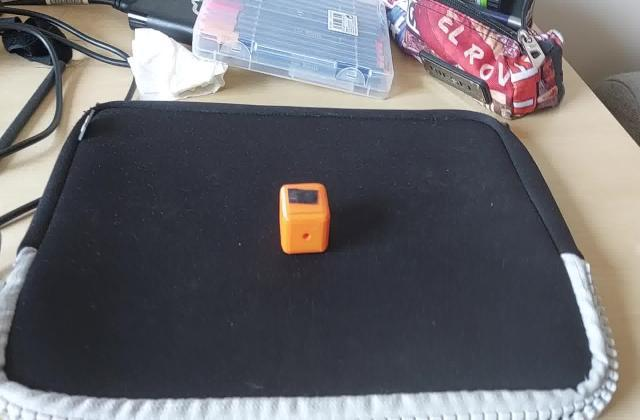black: (286, 186, 324, 208)
cube: (278, 182, 333, 258)
